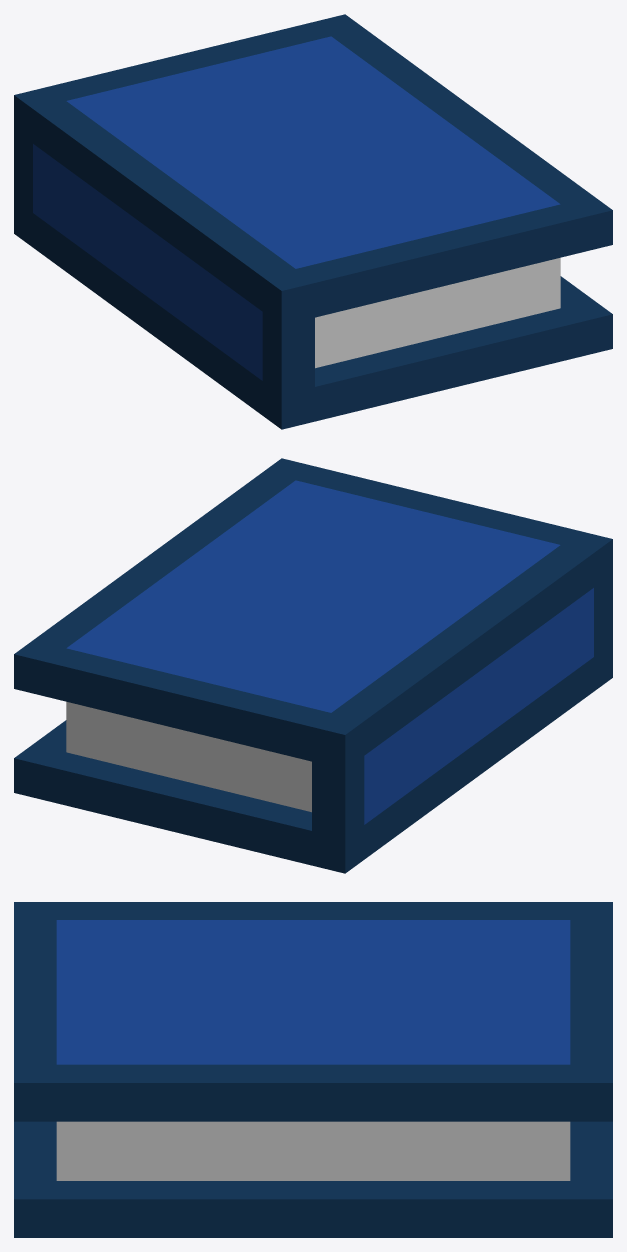
Rendered from Books.fbx.
3 views of the same model, one above another, from view 1: azimuth 30°, elevation 25°; view 2: azimuth 150°, elevation 25°; view 3: azimuth 270°, elevation 25° (orthographic). The views are drawn at different scales.
Parts seen in each view (by area): view 1: Blue Book Top, Blue Book Bottom; view 2: Blue Book Top, Blue Book Bottom; view 3: Blue Book Top, Blue Book Bottom.
Part boxes in pixels (x1,y1,x2,y2): Blue Book Top: (14,14,612,360); Blue Book Bottom: (14,164,612,429); Blue Book Top: (14,458,612,804); Blue Book Bottom: (14,608,612,873); Blue Book Top: (14,902,612,1142); Blue Book Bottom: (14,1121,612,1237).
Size of the model in its own units: 1 by 1.4 by 0.4.
4 materials, 4 textured.
